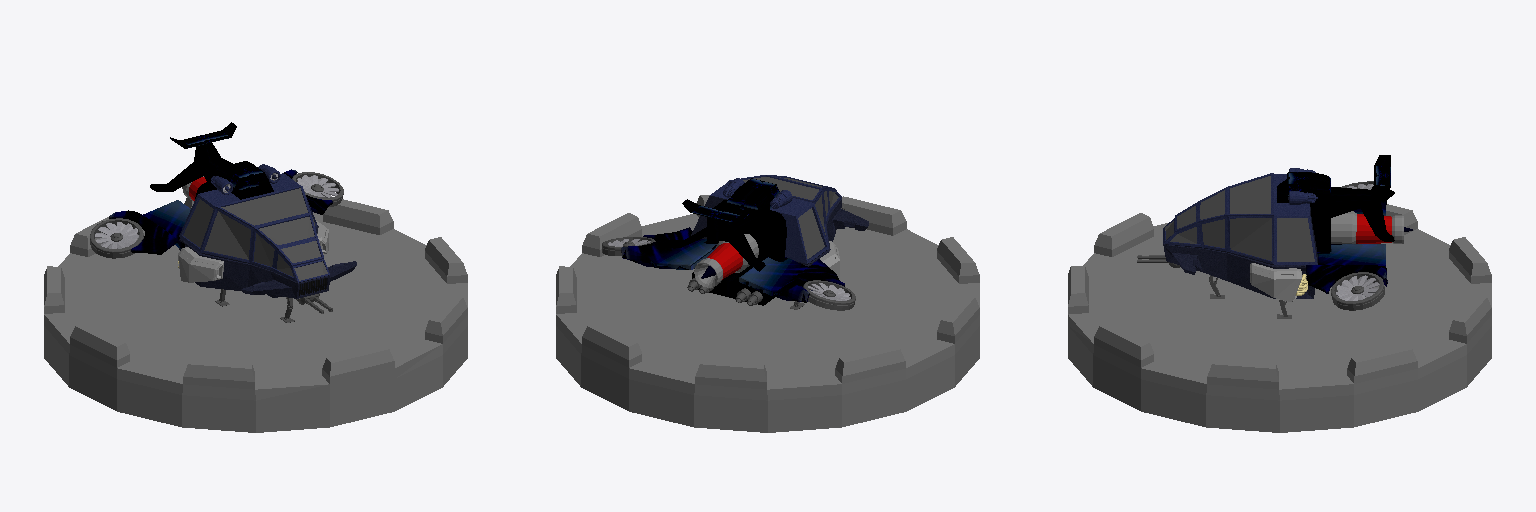
The picture shows the model from 3 angles: view 1: azimuth 30°, elevation 25°; view 2: azimuth 150°, elevation 25°; view 3: azimuth 270°, elevation 25°; orthographic projection.
Visible parts, largest first — view 1: Platform, Ship_Body, Rear_Wing, Side_Wing001, Engine__Left_, Rotor_Frame001; view 2: Platform, Rear_Wing, Ship_Body, Side_Wing001, Side_Wing, Rear_Main_Exhaust, Rotor_Frame001; view 3: Platform, Ship_Body, Rear_Wing, Side_Wing, Rear_Main_Exhaust, Engine__Right_, Rotor_Frame.
Part boxes in pixels (left/top/right/bottom): Platform: left=44, top=198, right=467, bottom=432; Ship_Body: left=179, top=173, right=356, bottom=298; Rear_Wing: left=150, top=122, right=273, bottom=199; Side_Wing001: left=109, top=200, right=190, bottom=254; Engine__Left_: left=178, top=247, right=223, bottom=282; Rotor_Frame001: left=90, top=218, right=143, bottom=258; Platform: left=556, top=195, right=979, bottom=432; Rear_Wing: left=662, top=178, right=786, bottom=305; Ship_Body: left=691, top=175, right=868, bottom=290; Side_Wing001: left=739, top=257, right=844, bottom=302; Side_Wing: left=621, top=227, right=716, bottom=269; Rear_Main_Exhaust: left=694, top=234, right=758, bottom=287; Rotor_Frame001: left=803, top=280, right=855, bottom=310; Platform: left=1068, top=204, right=1491, bottom=432; Ship_Body: left=1163, top=173, right=1317, bottom=298; Rear_Wing: left=1277, top=155, right=1394, bottom=252; Side_Wing: left=1306, top=244, right=1387, bottom=293; Rear_Main_Exhaust: left=1331, top=211, right=1412, bottom=243; Engine__Right_: left=1250, top=263, right=1301, bottom=301; Rotor_Frame: left=1331, top=272, right=1384, bottom=310.
Size of the model in its own units: 206 by 90.64 by 203.
Materials: 12 (4 with a texture image).